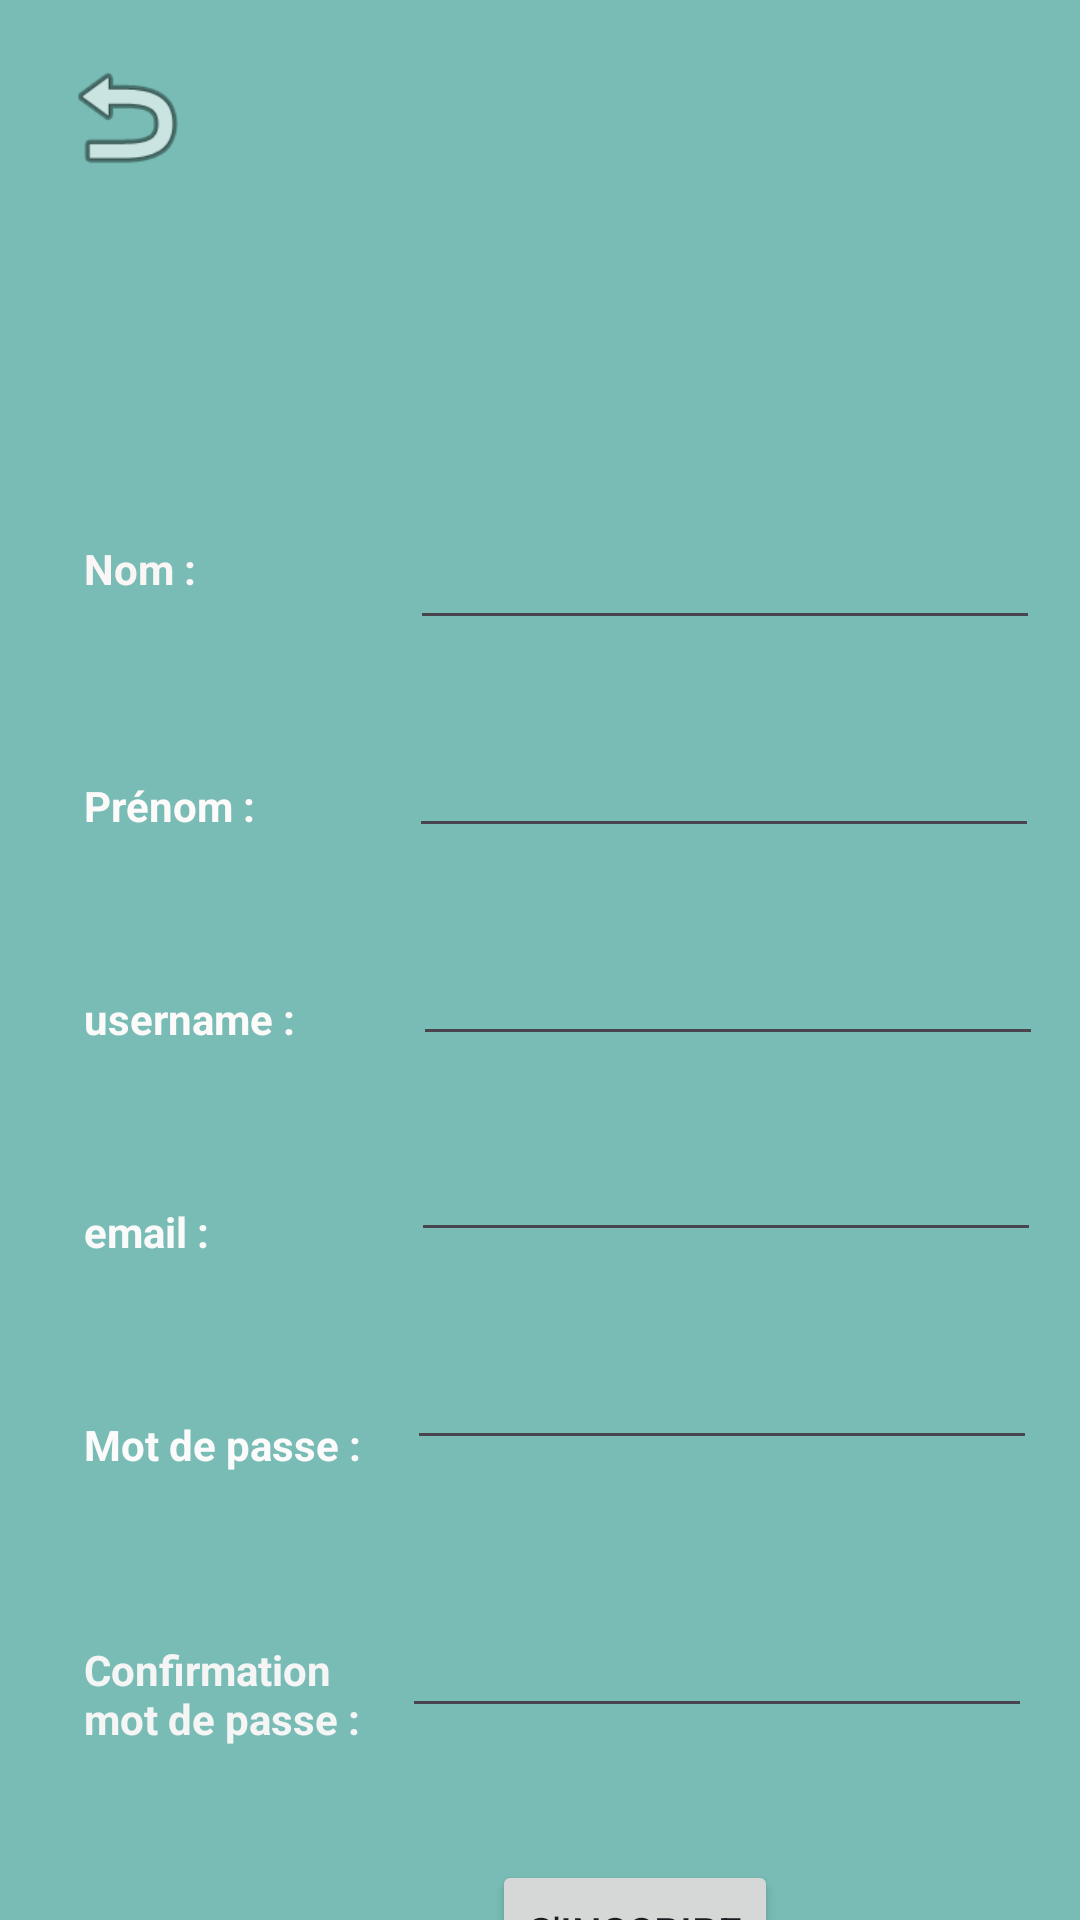

Point at icon controls on the screen. Image size 1080px x 1920px, points as (x,y).
revert: (128,118)
